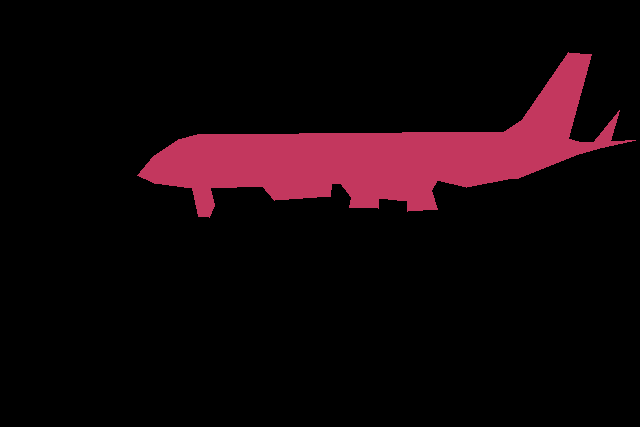Airplane: (137, 52, 640, 218)
